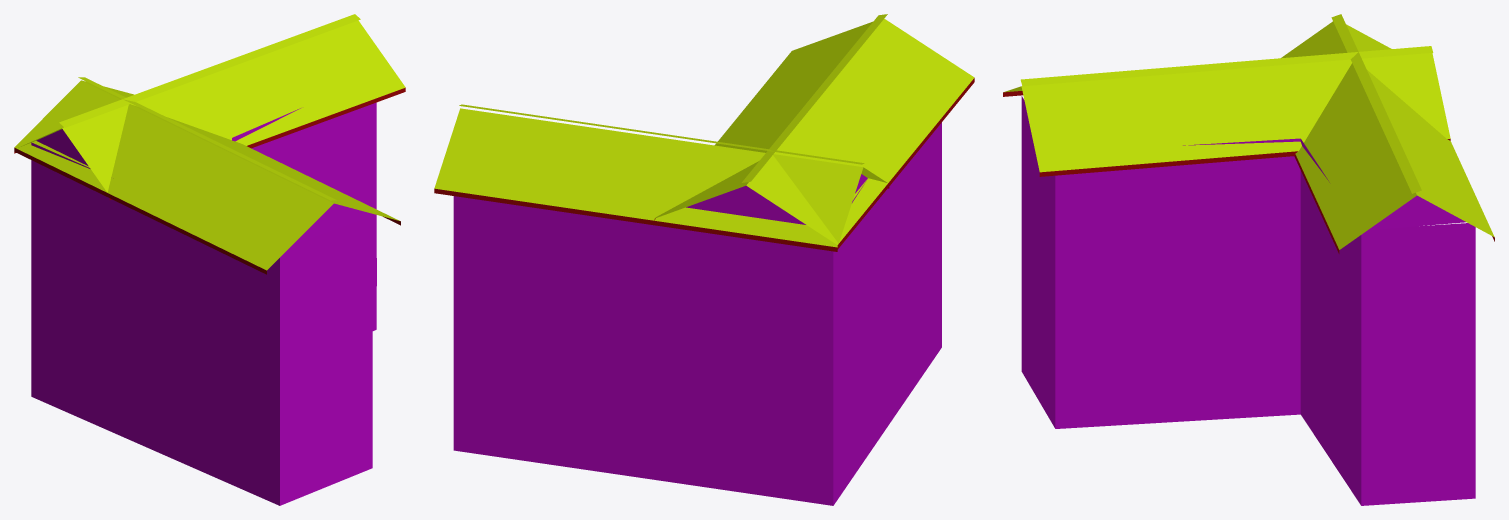
Rendered from scl_66.glb.
3 renders of one model, left to right at view 1: azimuth 30°, elevation 25°; view 2: azimuth 150°, elevation 25°; view 3: azimuth 270°, elevation 25°, orthographic. The views are drawn at different scales.
Visible parts, largest first — view 1: scl_66; view 2: scl_66; view 3: scl_66.
Boxes of the visible parts, x1,y1,x2,y2 form: scl_66: (14,14,405,505); scl_66: (434,14,974,505); scl_66: (1003,14,1494,505).
Bounding box in the file's own units: 10.64 × 8.36 × 11.69.
